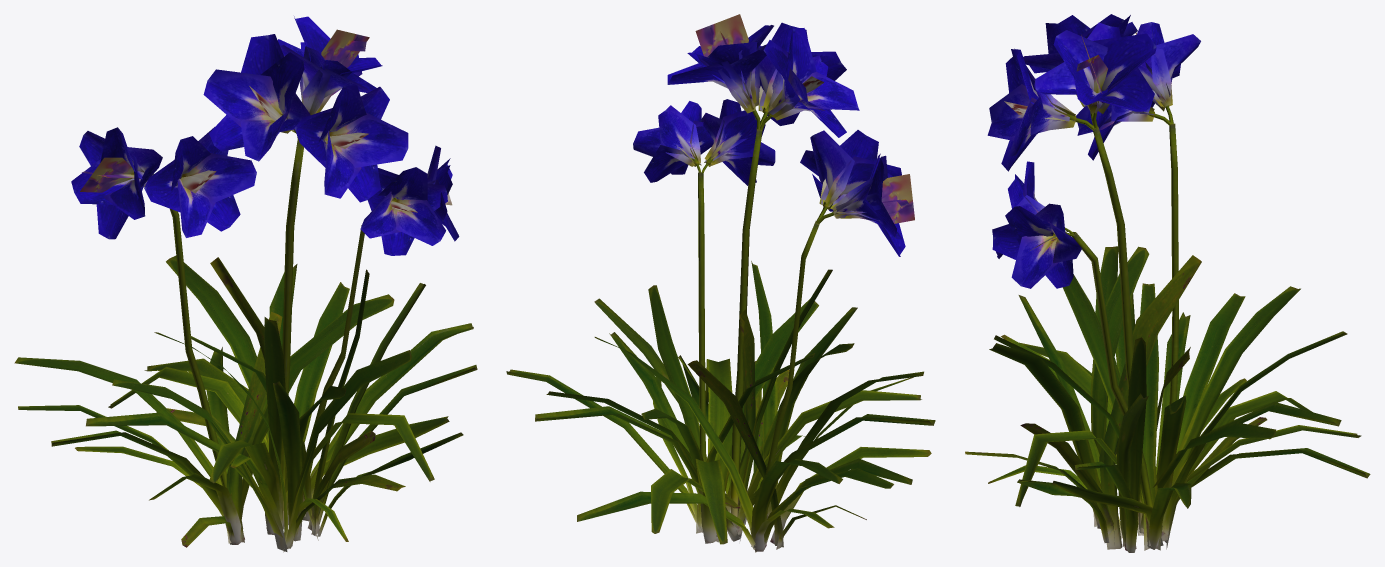
The model's file is Amaryllis_bush_long_deepblue.glb.
3 views of the same model, side by side, from view 1: azimuth 30°, elevation 25°; view 2: azimuth 150°, elevation 25°; view 3: azimuth 270°, elevation 25° (orthographic). The views are drawn at different scales.
Visible parts, largest first — view 1: bush; view 2: bush; view 3: bush.
Part boxes in pixels (x1=…): bush: x1=14, y1=16, x2=477, y2=552; bush: x1=506, y1=14, x2=935, y2=552; bush: x1=965, y1=14, x2=1370, y2=552.
Size of the model in its own units: 2.94 by 3.42 by 2.41.
Materials: 1 (1 with a texture image).
